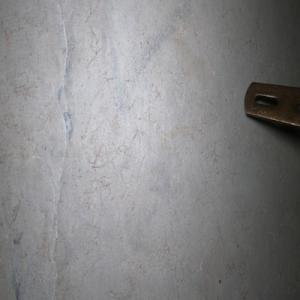MetalPart: (243, 80, 300, 135)
